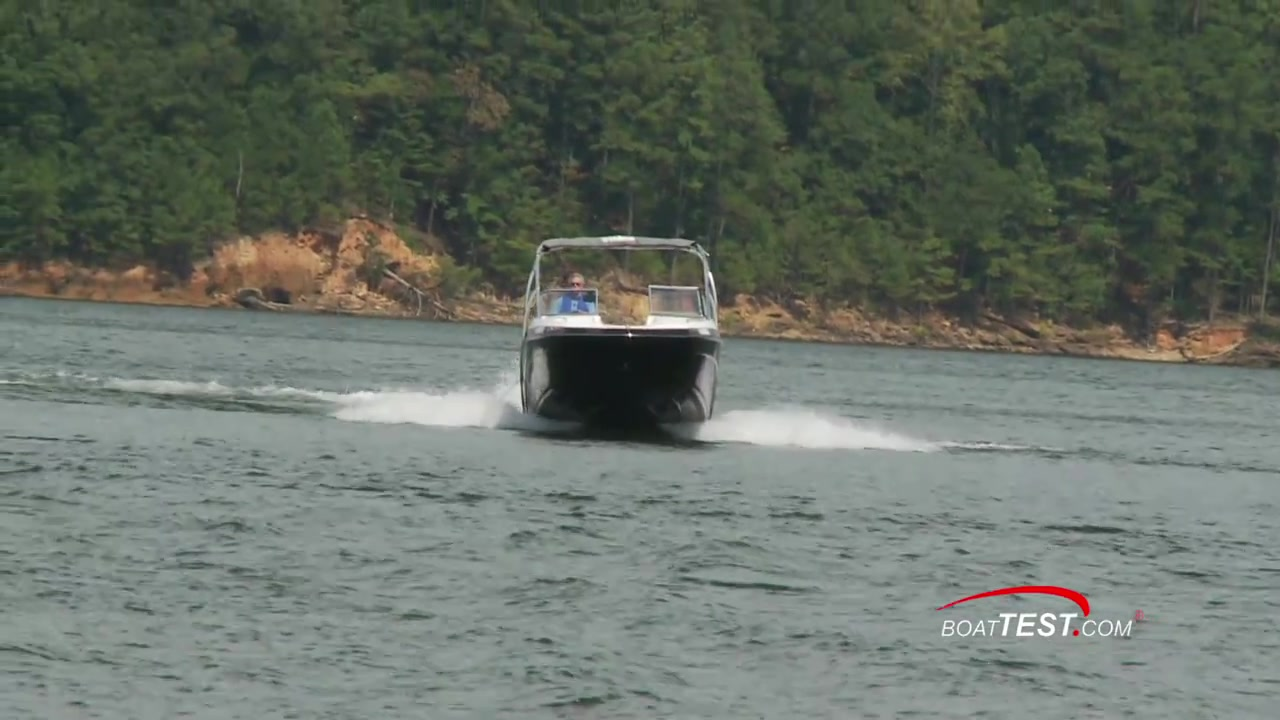boat: (516, 231, 730, 441)
